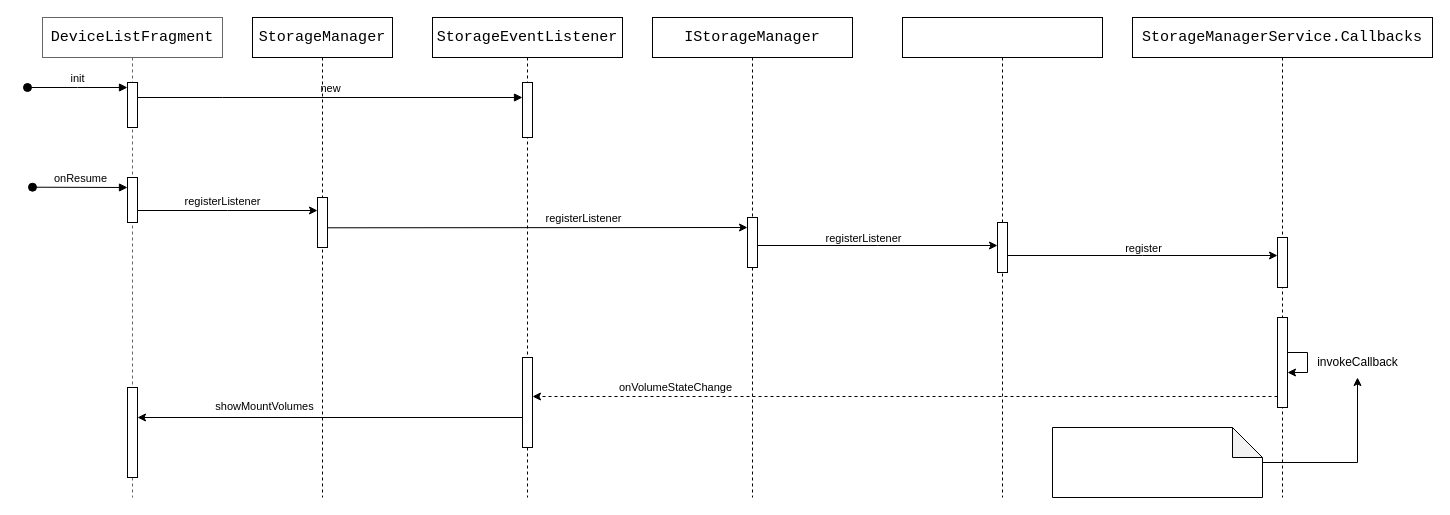
Some shapes in this 1450 by 515 pixel diagram are drawn without their labels. The shapes that lost their labels are listed below. From the top down, each one's centre as x and y in pixels, then its label:
At [1002,257]: "StorageManagerService".
At [1157,462]: "接受外部事件消息触发回调: MSG_VOLUME_STATE_CHANGED MSG_DISK_SCANNED".
